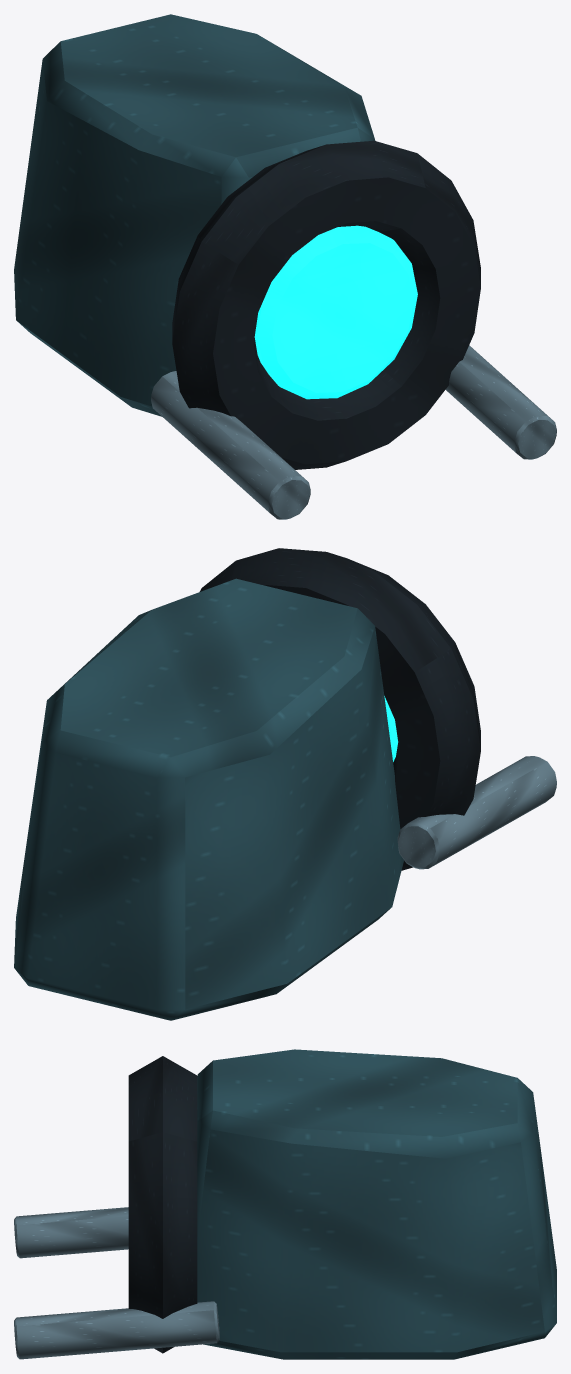
Rendered from Repair_Tool_V2.fbx.
3 views of the same model, one above another, from view 1: azimuth 30°, elevation 25°; view 2: azimuth 150°, elevation 25°; view 3: azimuth 270°, elevation 25° (orthographic). The views are drawn at different scales.
Visible parts, largest first — view 1: Repair_Tool_V2; view 2: Repair_Tool_V2; view 3: Repair_Tool_V2.
Boxes of the visible parts, x1,y1,x2,y2 form: Repair_Tool_V2: [14, 14, 556, 519]; Repair_Tool_V2: [14, 548, 556, 1020]; Repair_Tool_V2: [14, 1049, 556, 1359].
Bounding box in the file's own units: 0.326 × 0.326 × 0.5901.
